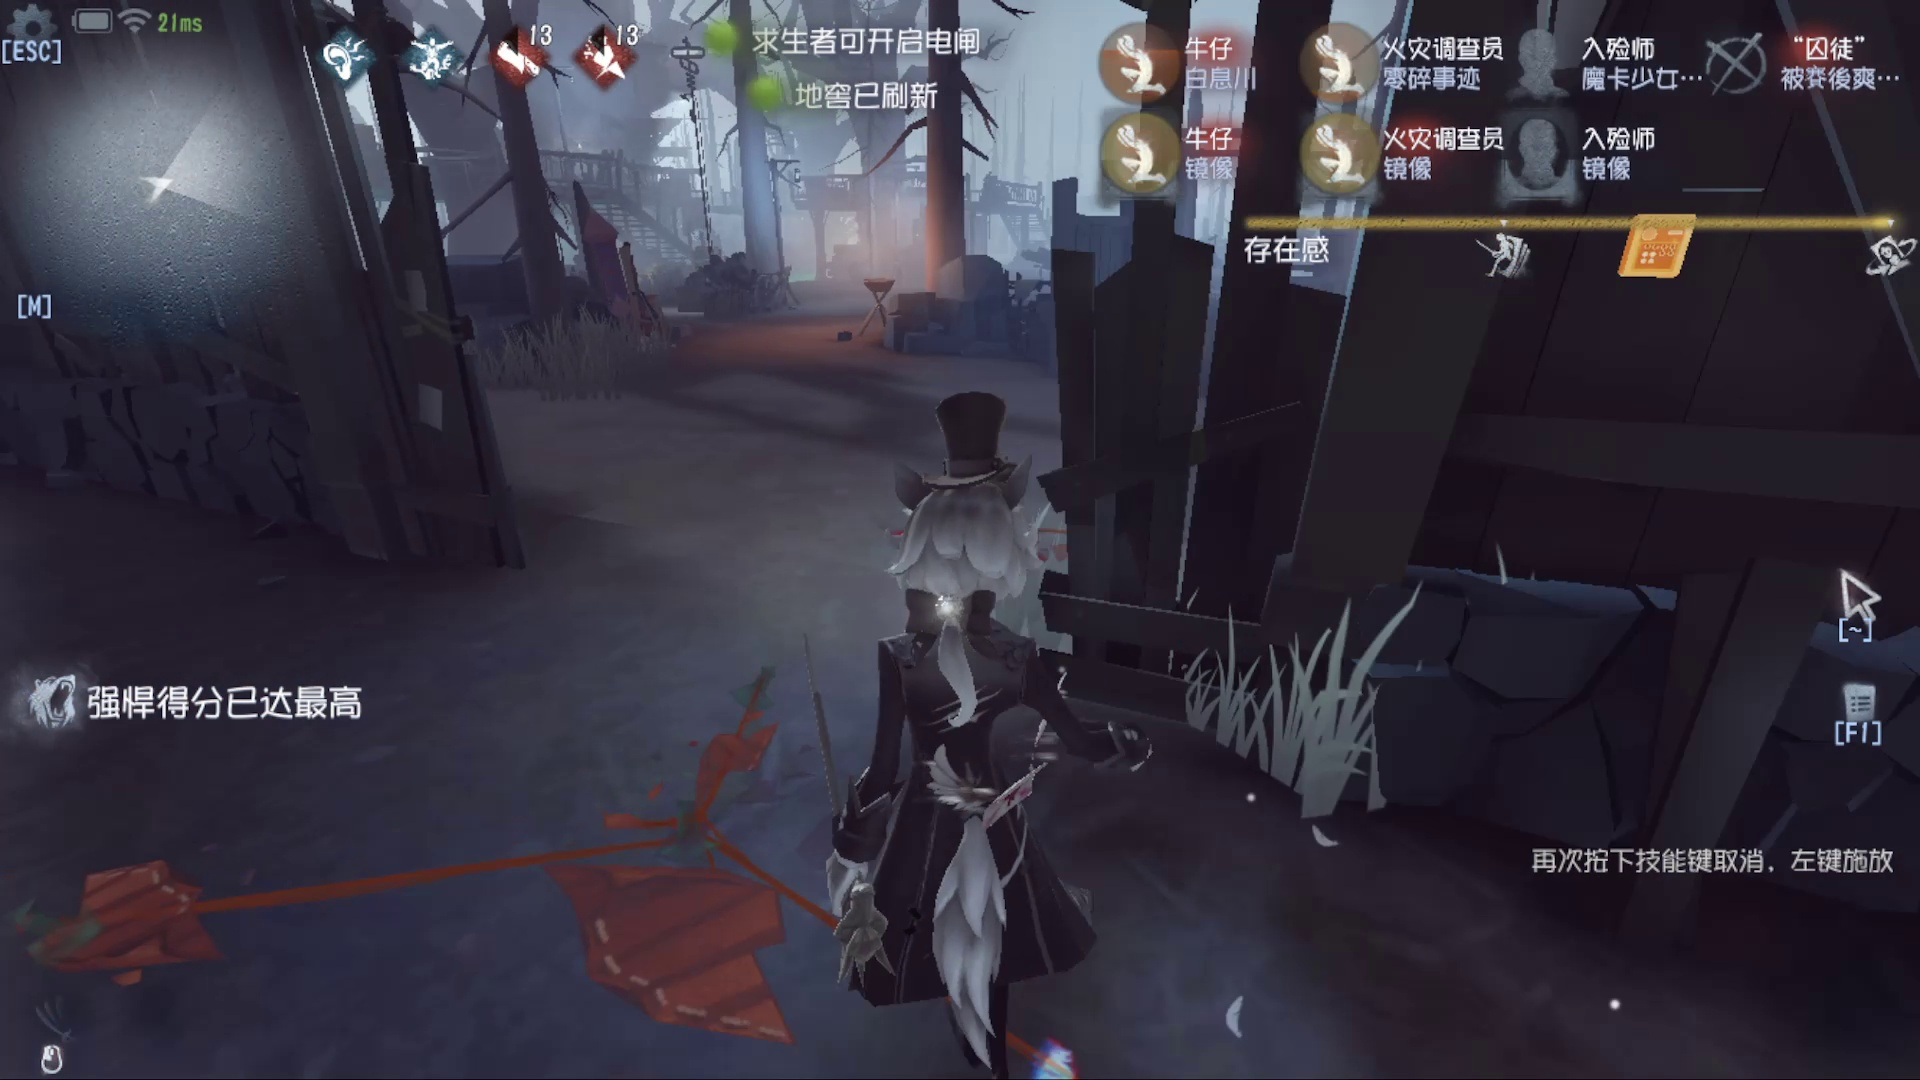狂欢之椅: (570, 179, 691, 349)
脚印: (102, 678, 831, 1050)
